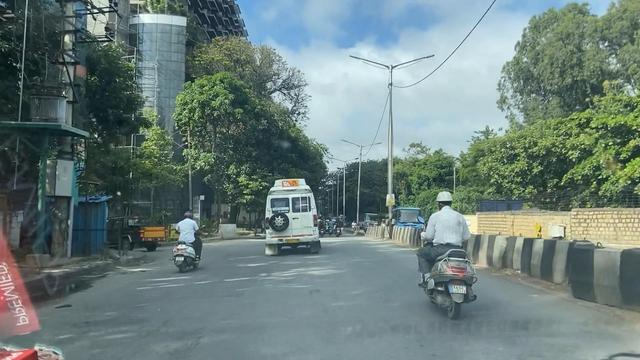LMV: (267, 180, 324, 259), (168, 206, 208, 279)
